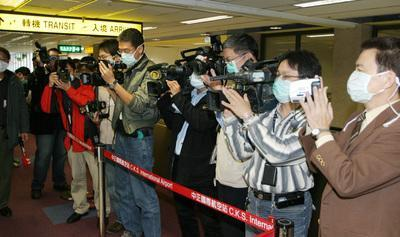OK: (348, 58, 393, 103), (273, 67, 310, 104), (225, 53, 252, 79), (190, 68, 213, 91), (120, 45, 144, 66), (99, 52, 118, 70), (1, 54, 11, 74)
